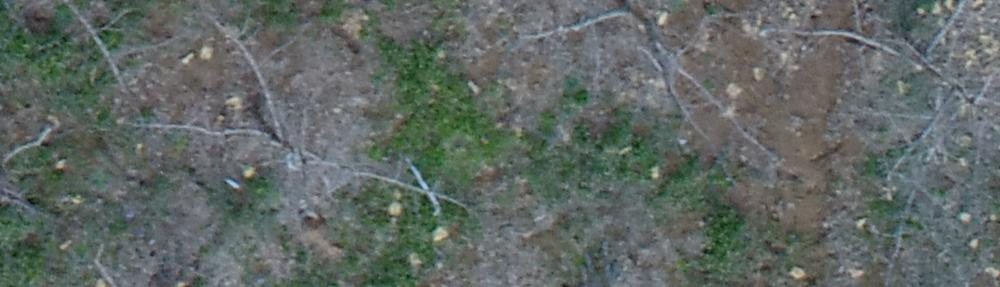apple: (136, 27, 474, 235), (510, 10, 798, 174), (785, 10, 990, 214)
